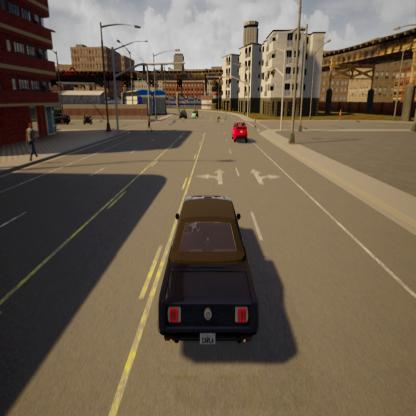Cars: (154, 192, 261, 353), (232, 119, 248, 147)
Pedestrian: (23, 119, 38, 163), (144, 111, 153, 135)
